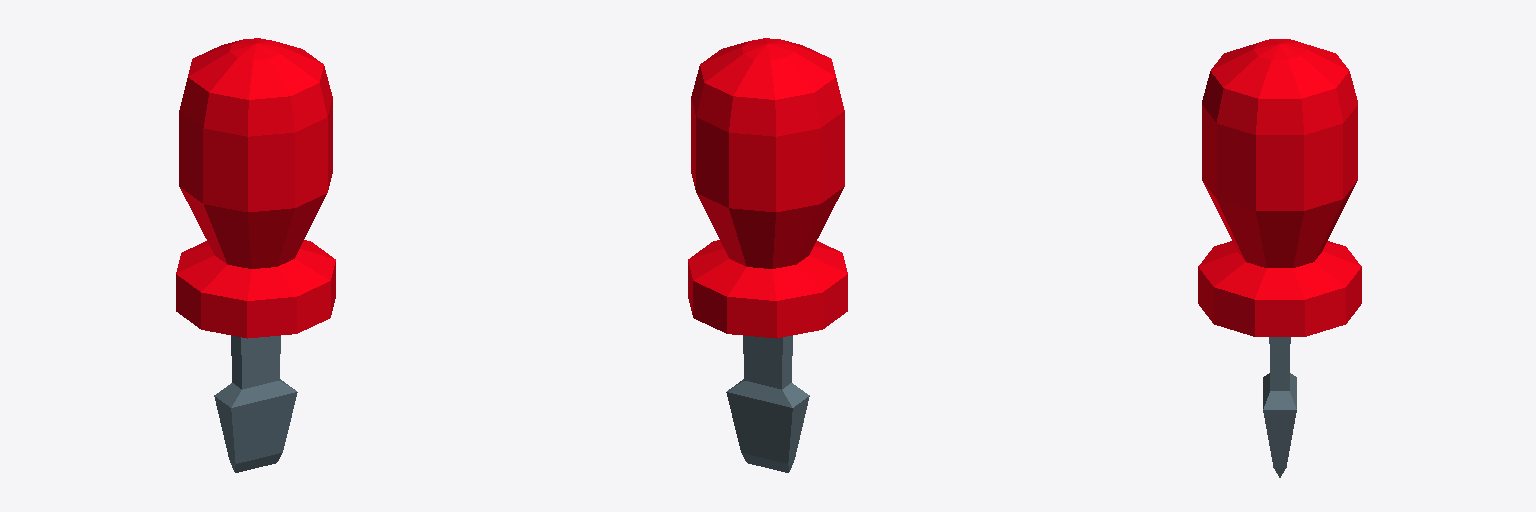
The model's file is screwdriver.obj.
3 renders of one model, left to right at view 1: azimuth 30°, elevation 25°; view 2: azimuth 150°, elevation 25°; view 3: azimuth 270°, elevation 25°, orthographic.
Visible parts, largest first — view 1: screwdriver_Cylinder.021; view 2: screwdriver_Cylinder.021; view 3: screwdriver_Cylinder.021.
Boxes of the visible parts, x1,y1,x2,y2 form: screwdriver_Cylinder.021: [176, 38, 335, 472]; screwdriver_Cylinder.021: [688, 38, 847, 472]; screwdriver_Cylinder.021: [1198, 39, 1361, 477].
Size of the model in its own units: 0.1196 by 0.3601 by 0.1257.